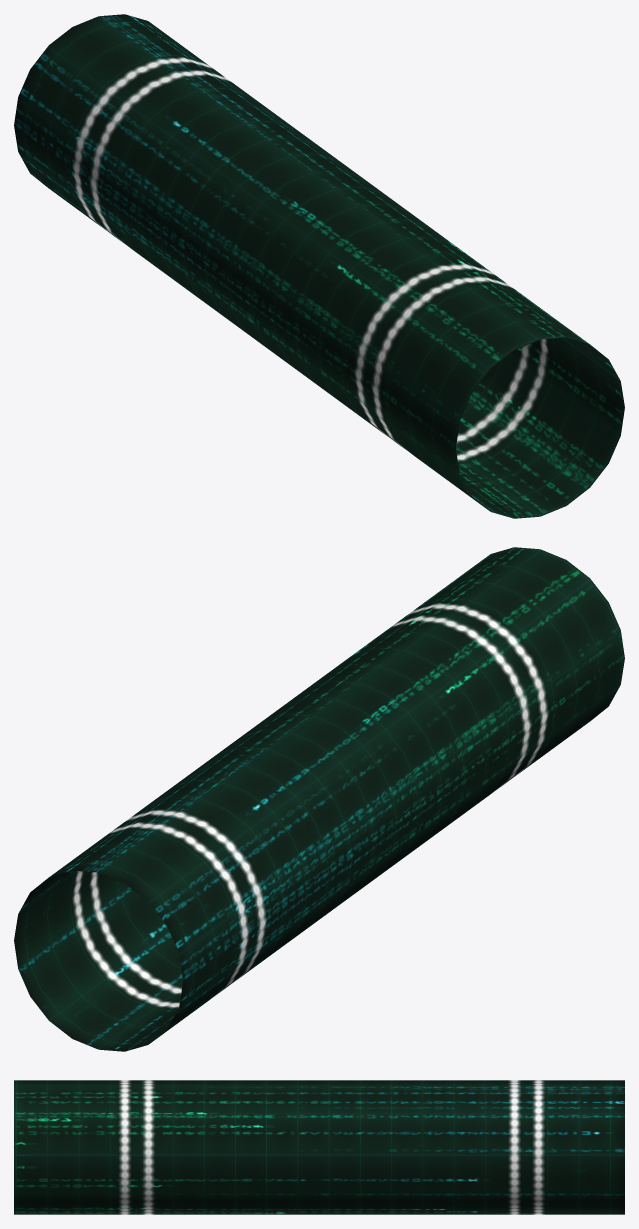
File: MDL_Holotunnel_001.fbx
The picture shows the model from 3 angles, top to bottom: view 1: azimuth 30°, elevation 25°; view 2: azimuth 150°, elevation 25°; view 3: azimuth 270°, elevation 25°; orthographic projection. The views are drawn at different scales.
Visible parts, largest first — view 1: pCylinder1; view 2: pCylinder1; view 3: pCylinder1.
Part boxes in pixels (bbox=[...]): pCylinder1: bbox=[14, 14, 624, 518]; pCylinder1: bbox=[14, 547, 624, 1051]; pCylinder1: bbox=[14, 1080, 624, 1214].
Size of the model in its own units: 281 by 281 by 1271.
